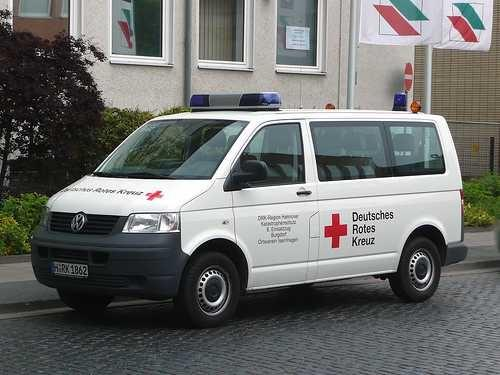car: (29, 91, 467, 327)
